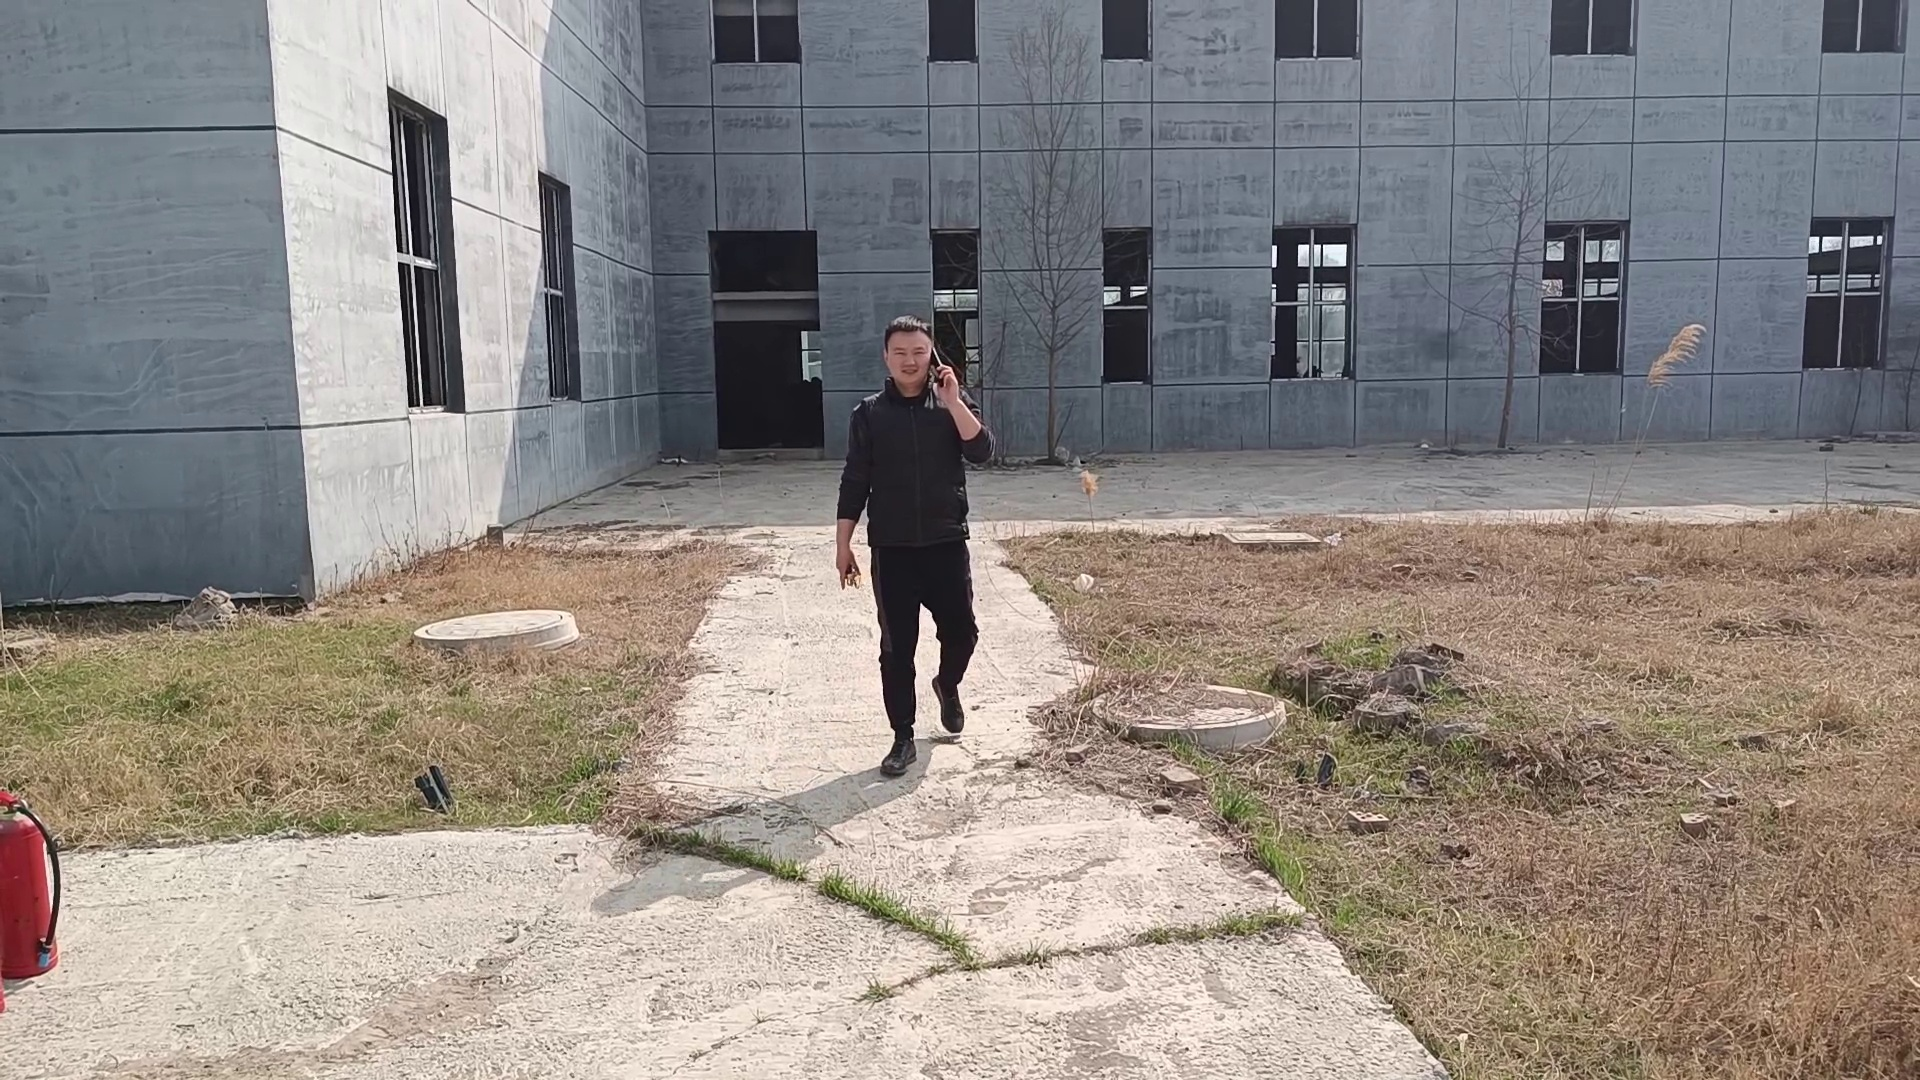phone: (874, 305, 965, 397)
